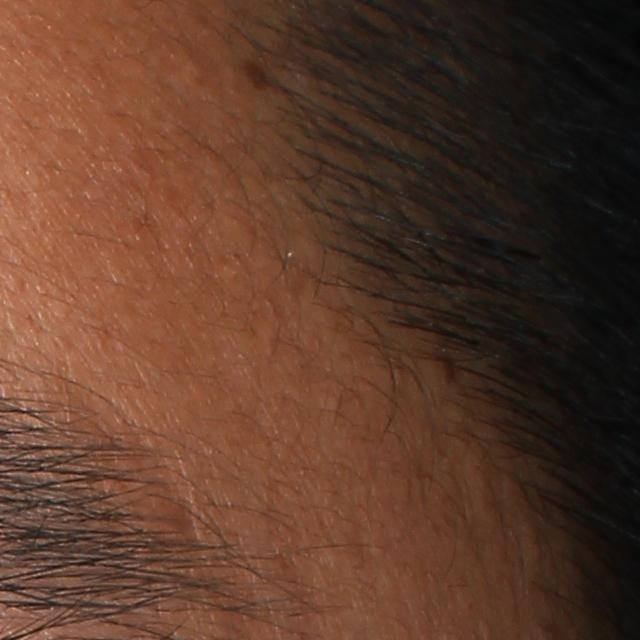nevus: (247, 60, 272, 89)
